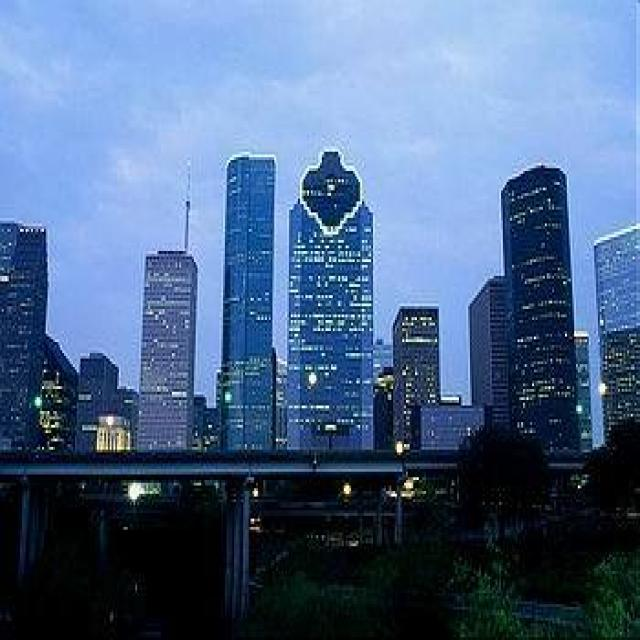building: (288, 148, 374, 450), (502, 165, 578, 458), (140, 159, 197, 451), (223, 154, 277, 452), (0, 218, 49, 449), (592, 221, 640, 452), (392, 302, 441, 450), (468, 276, 509, 436)
